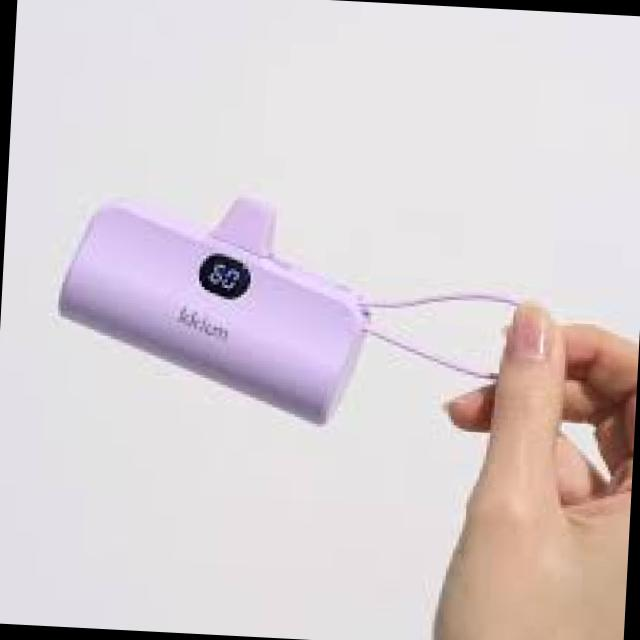power_bank: (52, 192, 382, 426)
